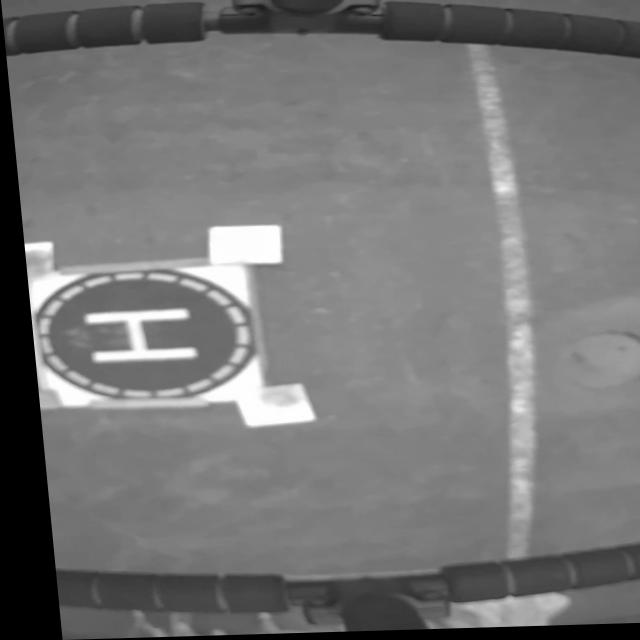Helipad: (77, 308, 190, 365)
